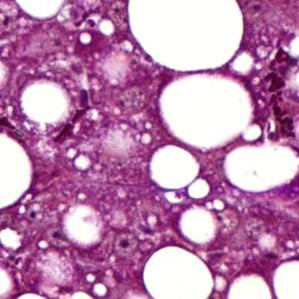steatosis: (165, 72, 260, 146), (150, 145, 202, 190), (21, 81, 71, 126)
